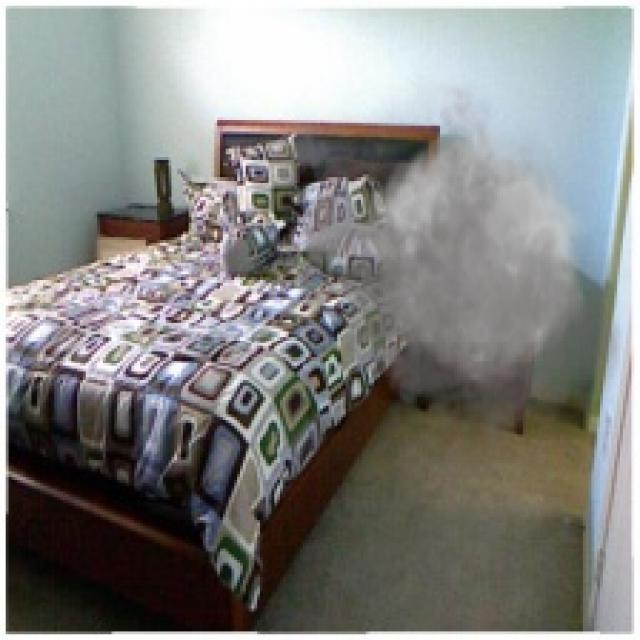smoke: (272, 60, 637, 457)
